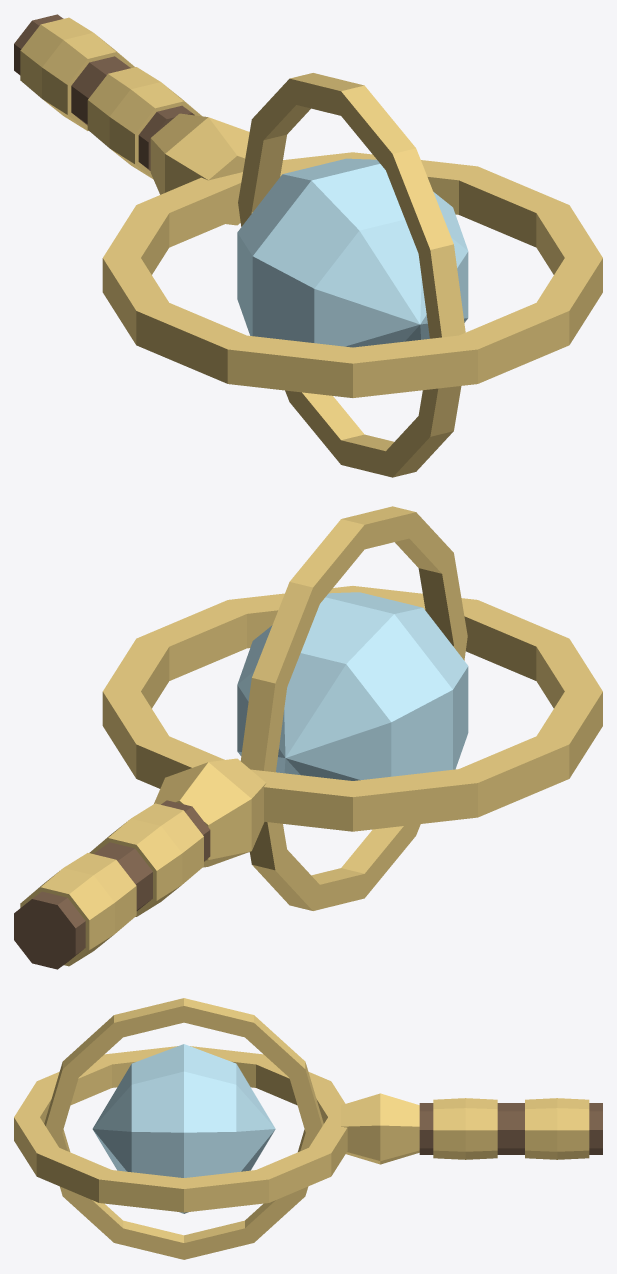
Rendered from wardingfocus.glb.
The picture shows the model from 3 angles, top to bottom: view 1: azimuth 30°, elevation 25°; view 2: azimuth 150°, elevation 25°; view 3: azimuth 270°, elevation 25°; orthographic projection. The views are drawn at different scales.
Visible parts, largest first — view 1: wardingfocus; view 2: wardingfocus; view 3: wardingfocus.
Part boxes in pixels (left/top/right/bottom): wardingfocus: left=14, top=14, right=602, bottom=477; wardingfocus: left=14, top=506, right=602, bottom=969; wardingfocus: left=14, top=998, right=602, bottom=1259.
Size of the model in its own units: 0.2598 by 0.2141 by 0.4499.
